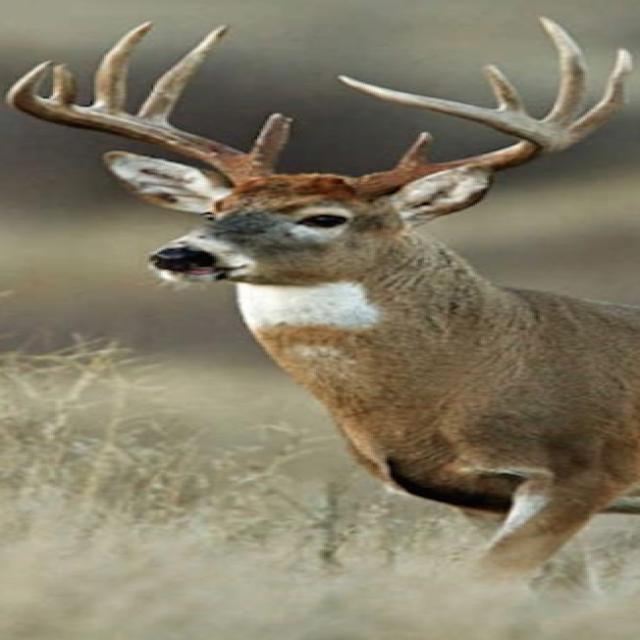L-F: (336, 73, 568, 202)
L-G1: (394, 130, 433, 170)
L-G2: (565, 48, 634, 149)
L-G3: (534, 15, 590, 127)
L-G4: (481, 63, 530, 116)
R-F: (5, 60, 275, 188)
R-G1: (245, 112, 295, 171)
R-G2: (136, 24, 232, 123)
R-G3: (91, 21, 158, 113)
R-G4: (49, 62, 78, 105)
